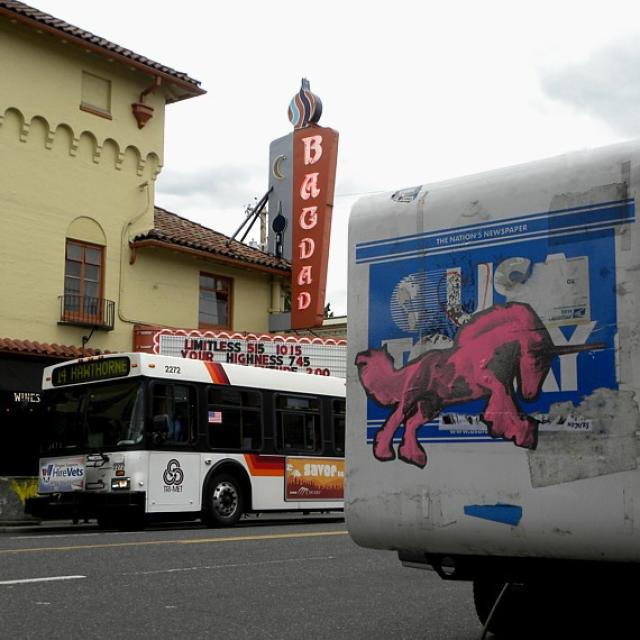Vehicle: (341, 136, 640, 632), (32, 351, 347, 527)
